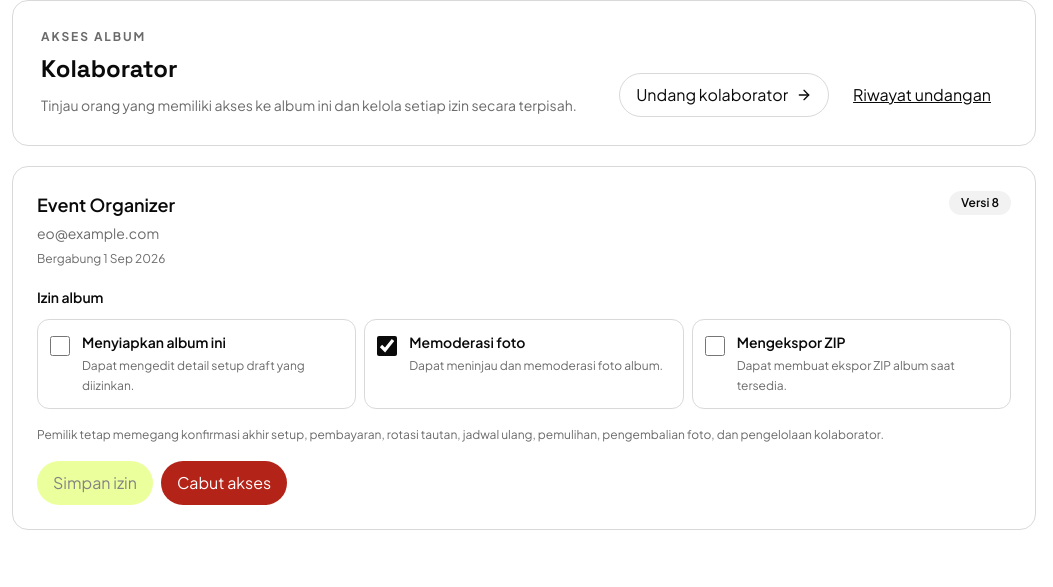
it: FE-7 collaborator management › maps H45 permission PATCH 404 to its safe response state
Click the checkbox labelled "Mengekspor ZIP Dapat membuat ekspor ZIP album saat tersedia.".
click(715, 346)  # box [705,336,725,356]
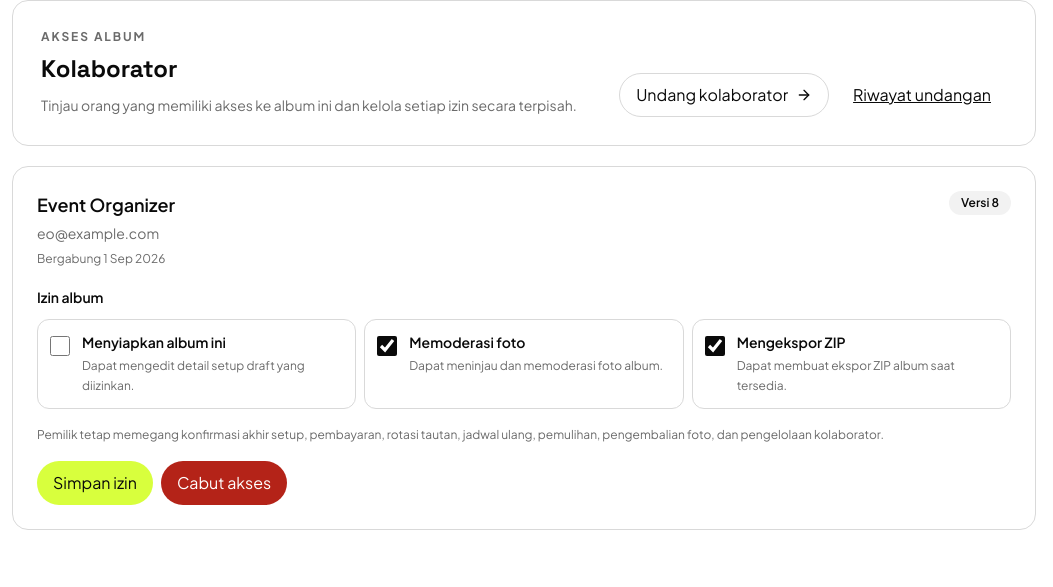
Click the button "Simpan izin".
click(95, 483)  # box [37,461,153,505]
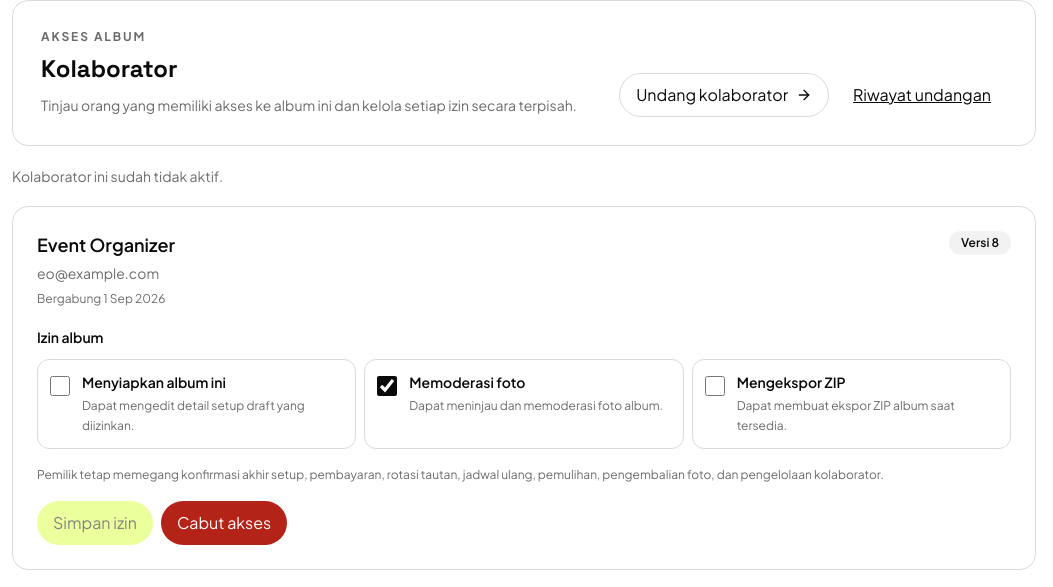
Expected: the message reads "Kolaborator ini sudah tidak aktif.", [12,167,223,185]
